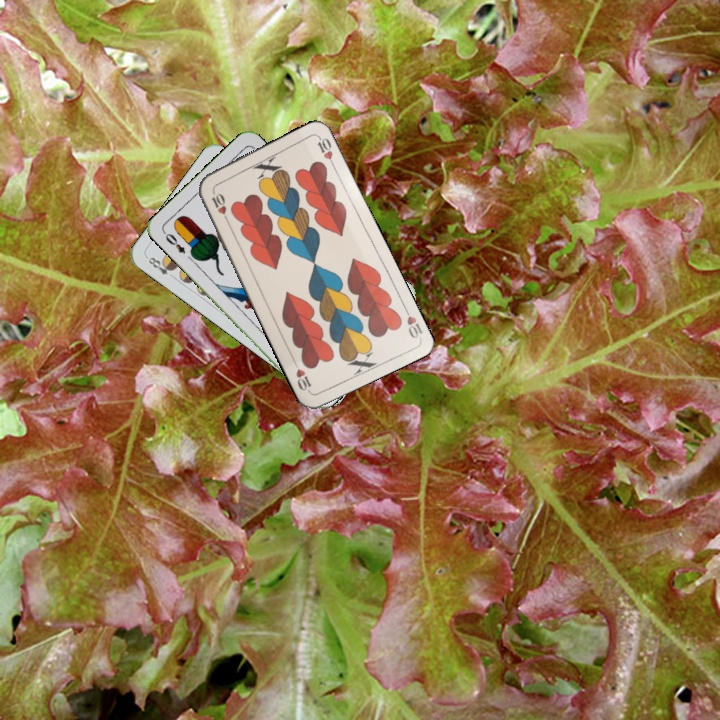E8: (143, 253, 177, 282)
EO: (159, 228, 188, 257)
H10: (400, 302, 425, 341), (208, 186, 231, 225)
